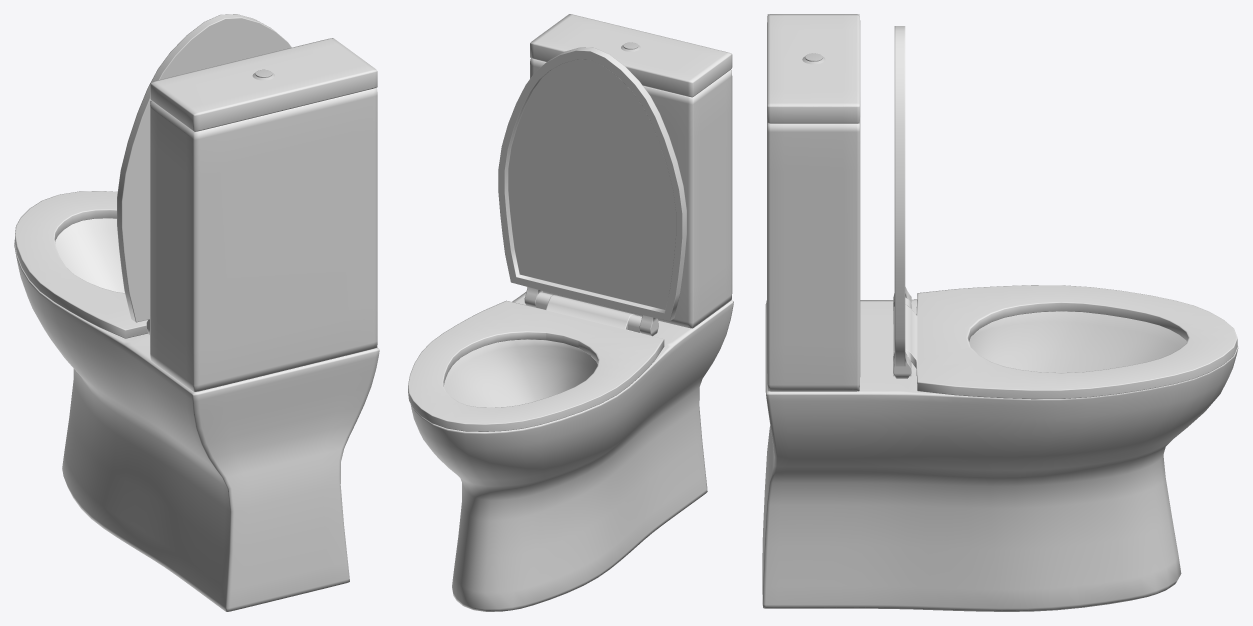
File: Toilet05.fbx
3 views of the same model, side by side, from view 1: azimuth 30°, elevation 25°; view 2: azimuth 150°, elevation 25°; view 3: azimuth 270°, elevation 25° (orthographic). The views are drawn at different scales.
Visible parts, largest first — view 1: Toilet05, ToiletCover05, ToiletSeat05; view 2: Toilet05, ToiletCover05, ToiletSeat05; view 3: Toilet05, ToiletSeat05, ToiletCover05.
Boxes of the visible parts, bbox=[...] form: Toilet05: bbox=[14, 38, 379, 611]; ToiletCover05: bbox=[117, 14, 291, 334]; ToiletSeat05: bbox=[15, 191, 147, 338]; Toilet05: bbox=[410, 14, 733, 611]; ToiletCover05: bbox=[498, 47, 686, 336]; ToiletSeat05: bbox=[408, 295, 664, 431]; Toilet05: bbox=[762, 14, 1238, 611]; ToiletSeat05: bbox=[893, 285, 1237, 399]; ToiletCover05: bbox=[893, 26, 911, 378].
Size of the model in its own units: 34.53 by 83.59 by 65.78.
